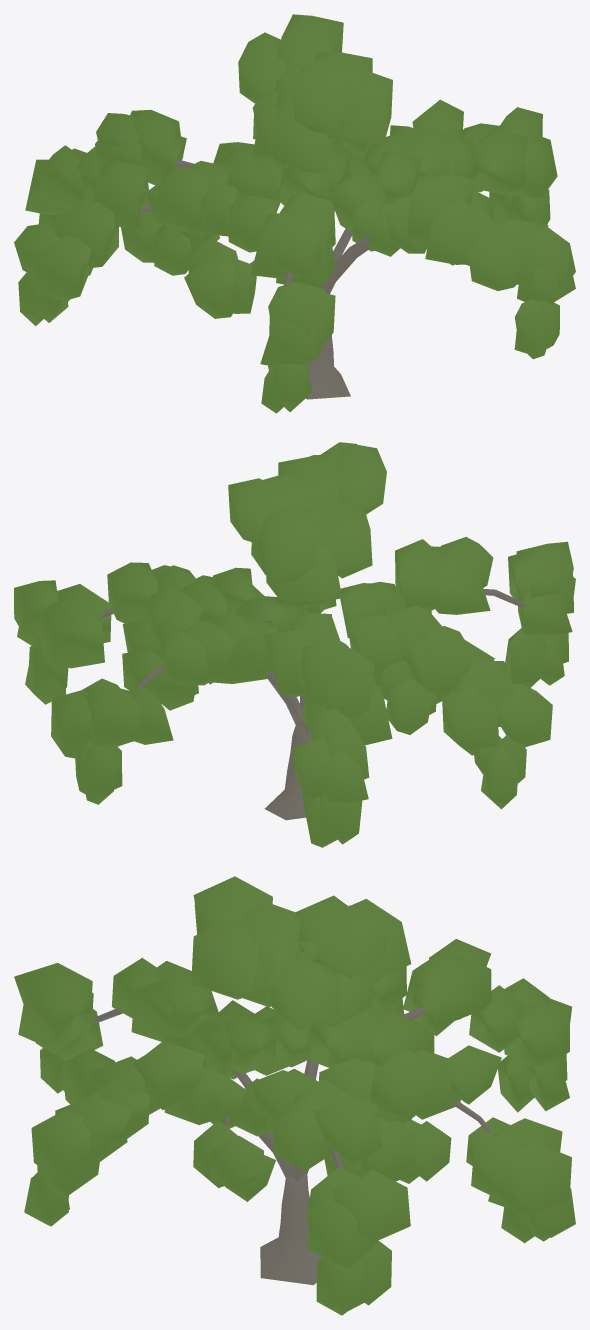
The model's file is Blender_ValleyOak_1_Far.glb.
3 views of the same model, one above another, from view 1: azimuth 30°, elevation 25°; view 2: azimuth 150°, elevation 25°; view 3: azimuth 270°, elevation 25° (orthographic). The views are drawn at different scales.
Parts seen in each view (by area): view 1: Blender_ValleyOak_1_Far; view 2: Blender_ValleyOak_1_Far; view 3: Blender_ValleyOak_1_Far.
Part boxes in pixels (x1,y1,x2,y2): Blender_ValleyOak_1_Far: [14, 14, 575, 413]; Blender_ValleyOak_1_Far: [14, 442, 575, 847]; Blender_ValleyOak_1_Far: [14, 876, 575, 1315].
Size of the model in its own units: 36.6 by 23 by 30.87.
